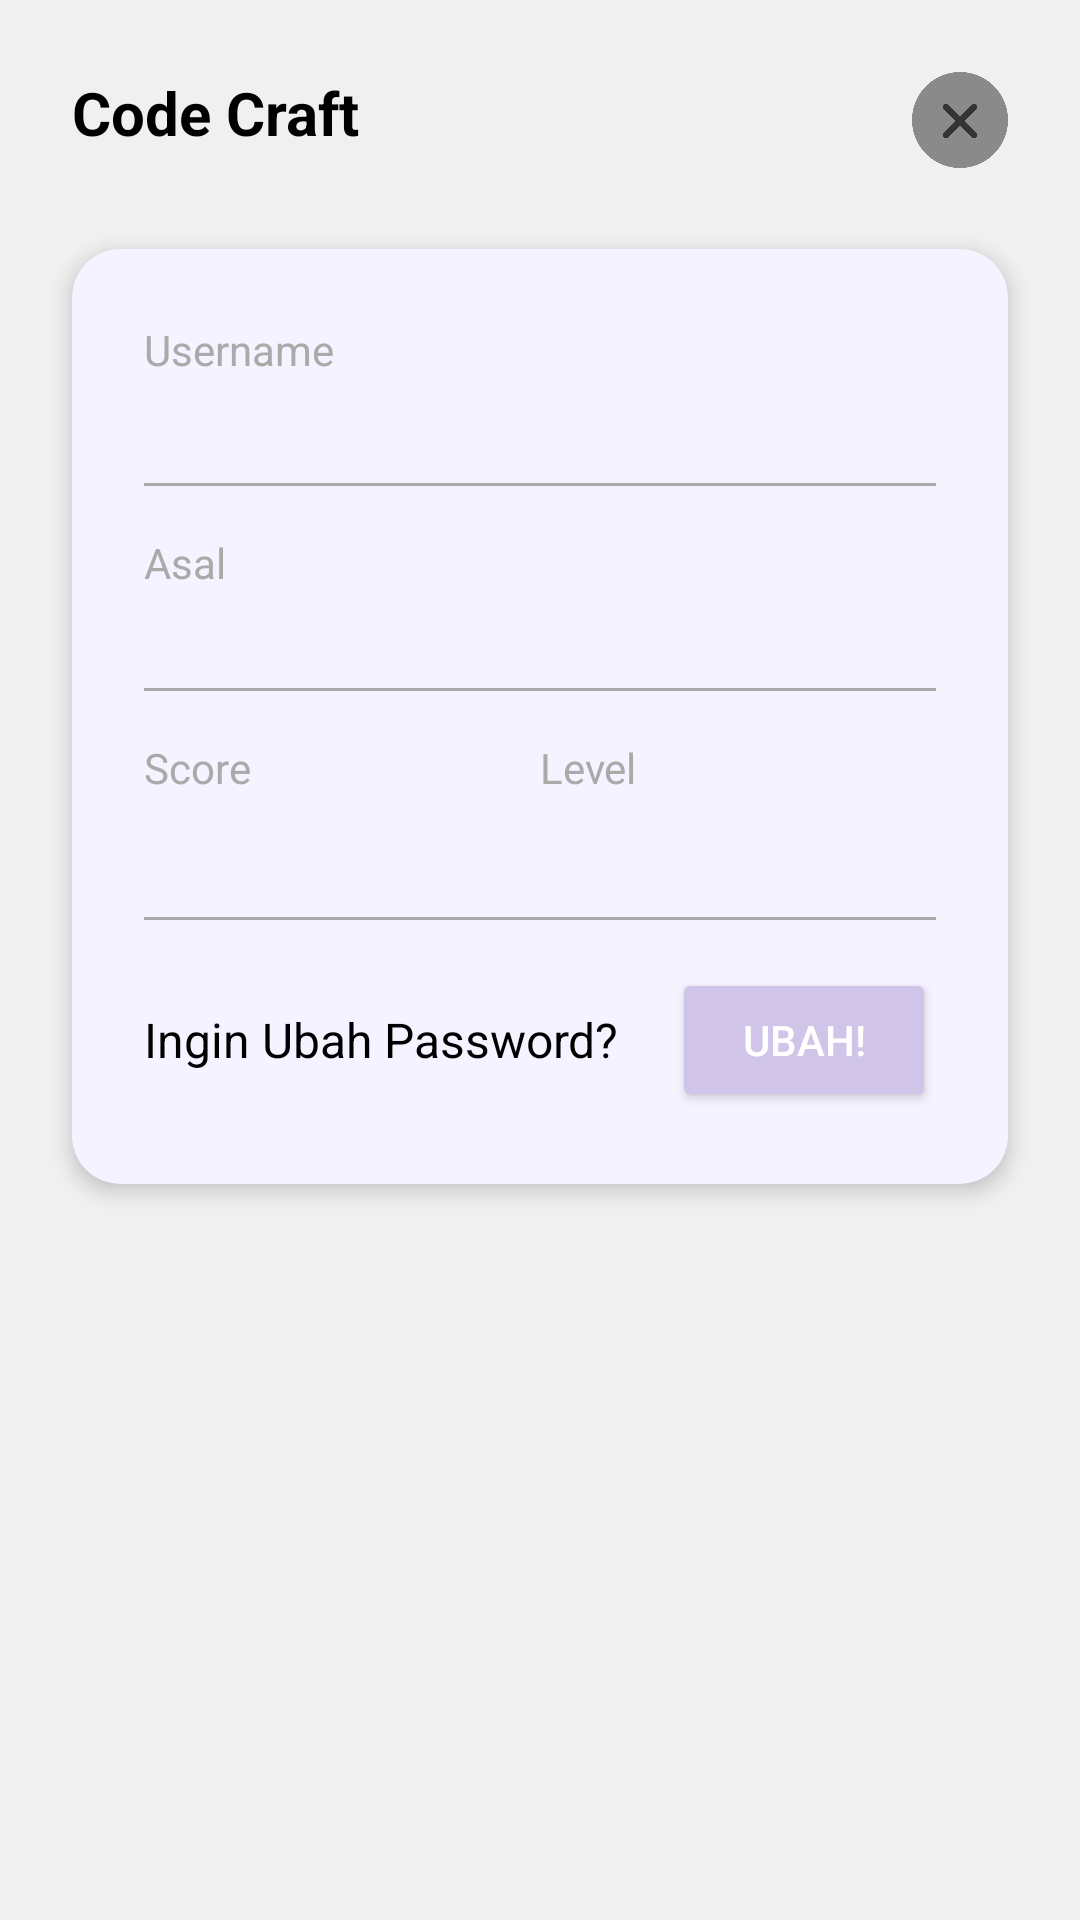

Screen size 1080w x 1920h. Icon name, then its center in pixels as [x,y]:
Close: [960,120]
